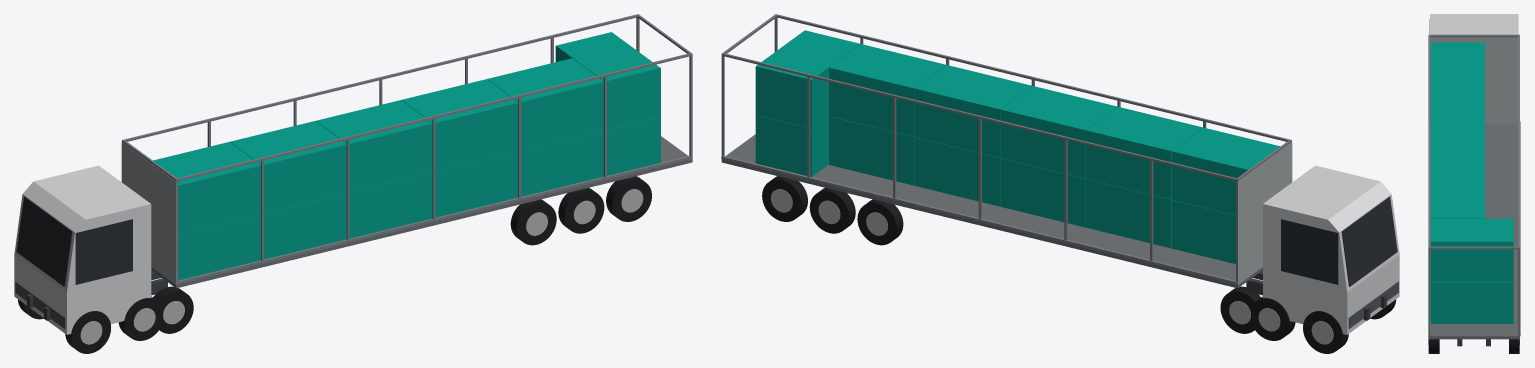
File: carreta-MIX.glb
3 views of the same model, side by side, from view 1: azimuth 30°, elevation 25°; view 2: azimuth 150°, elevation 25°; view 3: azimuth 270°, elevation 25° (orthographic). The views are drawn at different scales.
Parts seen in each view (by area): view 1: cabine, part61, part63, part59, part65, part57, part67, frente, part60, part58, part62, part64 (+15 smaller); view 2: cabine, piso, part63, part61, part59, part65, part67, part57, part60, part62, part58, part64 (+15 smaller); view 3: part67, piso, part66, frente, part59, part65, part57, part61, part63, cabine, part18, part20 (+8 smaller).
Boxes of the visible parts, x1,y1,x2,y2 form: cabine: [14, 165, 151, 334]; part61: [316, 100, 432, 192]; part63: [401, 79, 517, 171]; part59: [230, 121, 346, 213]; part65: [487, 58, 603, 150]; part57: [153, 142, 260, 234]; part67: [555, 32, 660, 129]; frente: [121, 142, 176, 284]; part60: [349, 172, 432, 238]; part58: [264, 193, 346, 259]; part62: [435, 151, 517, 217]; part64: [521, 130, 603, 196]; cabine: [1263, 165, 1399, 334]; piso: [721, 134, 1262, 288]; part63: [914, 65, 1031, 157]; part61: [1000, 86, 1117, 178]; part59: [1086, 106, 1203, 199]; part65: [829, 44, 945, 136]; part67: [755, 30, 860, 128]; part57: [1171, 127, 1279, 215]; part60: [1000, 158, 1085, 227]; part62: [914, 137, 1000, 206]; part58: [1086, 179, 1171, 248]; part64: [829, 116, 914, 185]; part67: [1430, 218, 1513, 282]; piso: [1428, 123, 1519, 339]; part66: [1430, 282, 1513, 323]; frente: [1430, 37, 1517, 123]; part59: [1430, 77, 1484, 112]; part65: [1430, 183, 1484, 218]; part57: [1430, 42, 1484, 77]; part61: [1430, 112, 1484, 147]; part63: [1430, 148, 1484, 183]; cabine: [1430, 14, 1518, 34]; part18: [1428, 34, 1430, 248]; part20: [1518, 34, 1519, 249].
Bounding box in the file's own units: 17.14 × 3.99 × 2.58.
